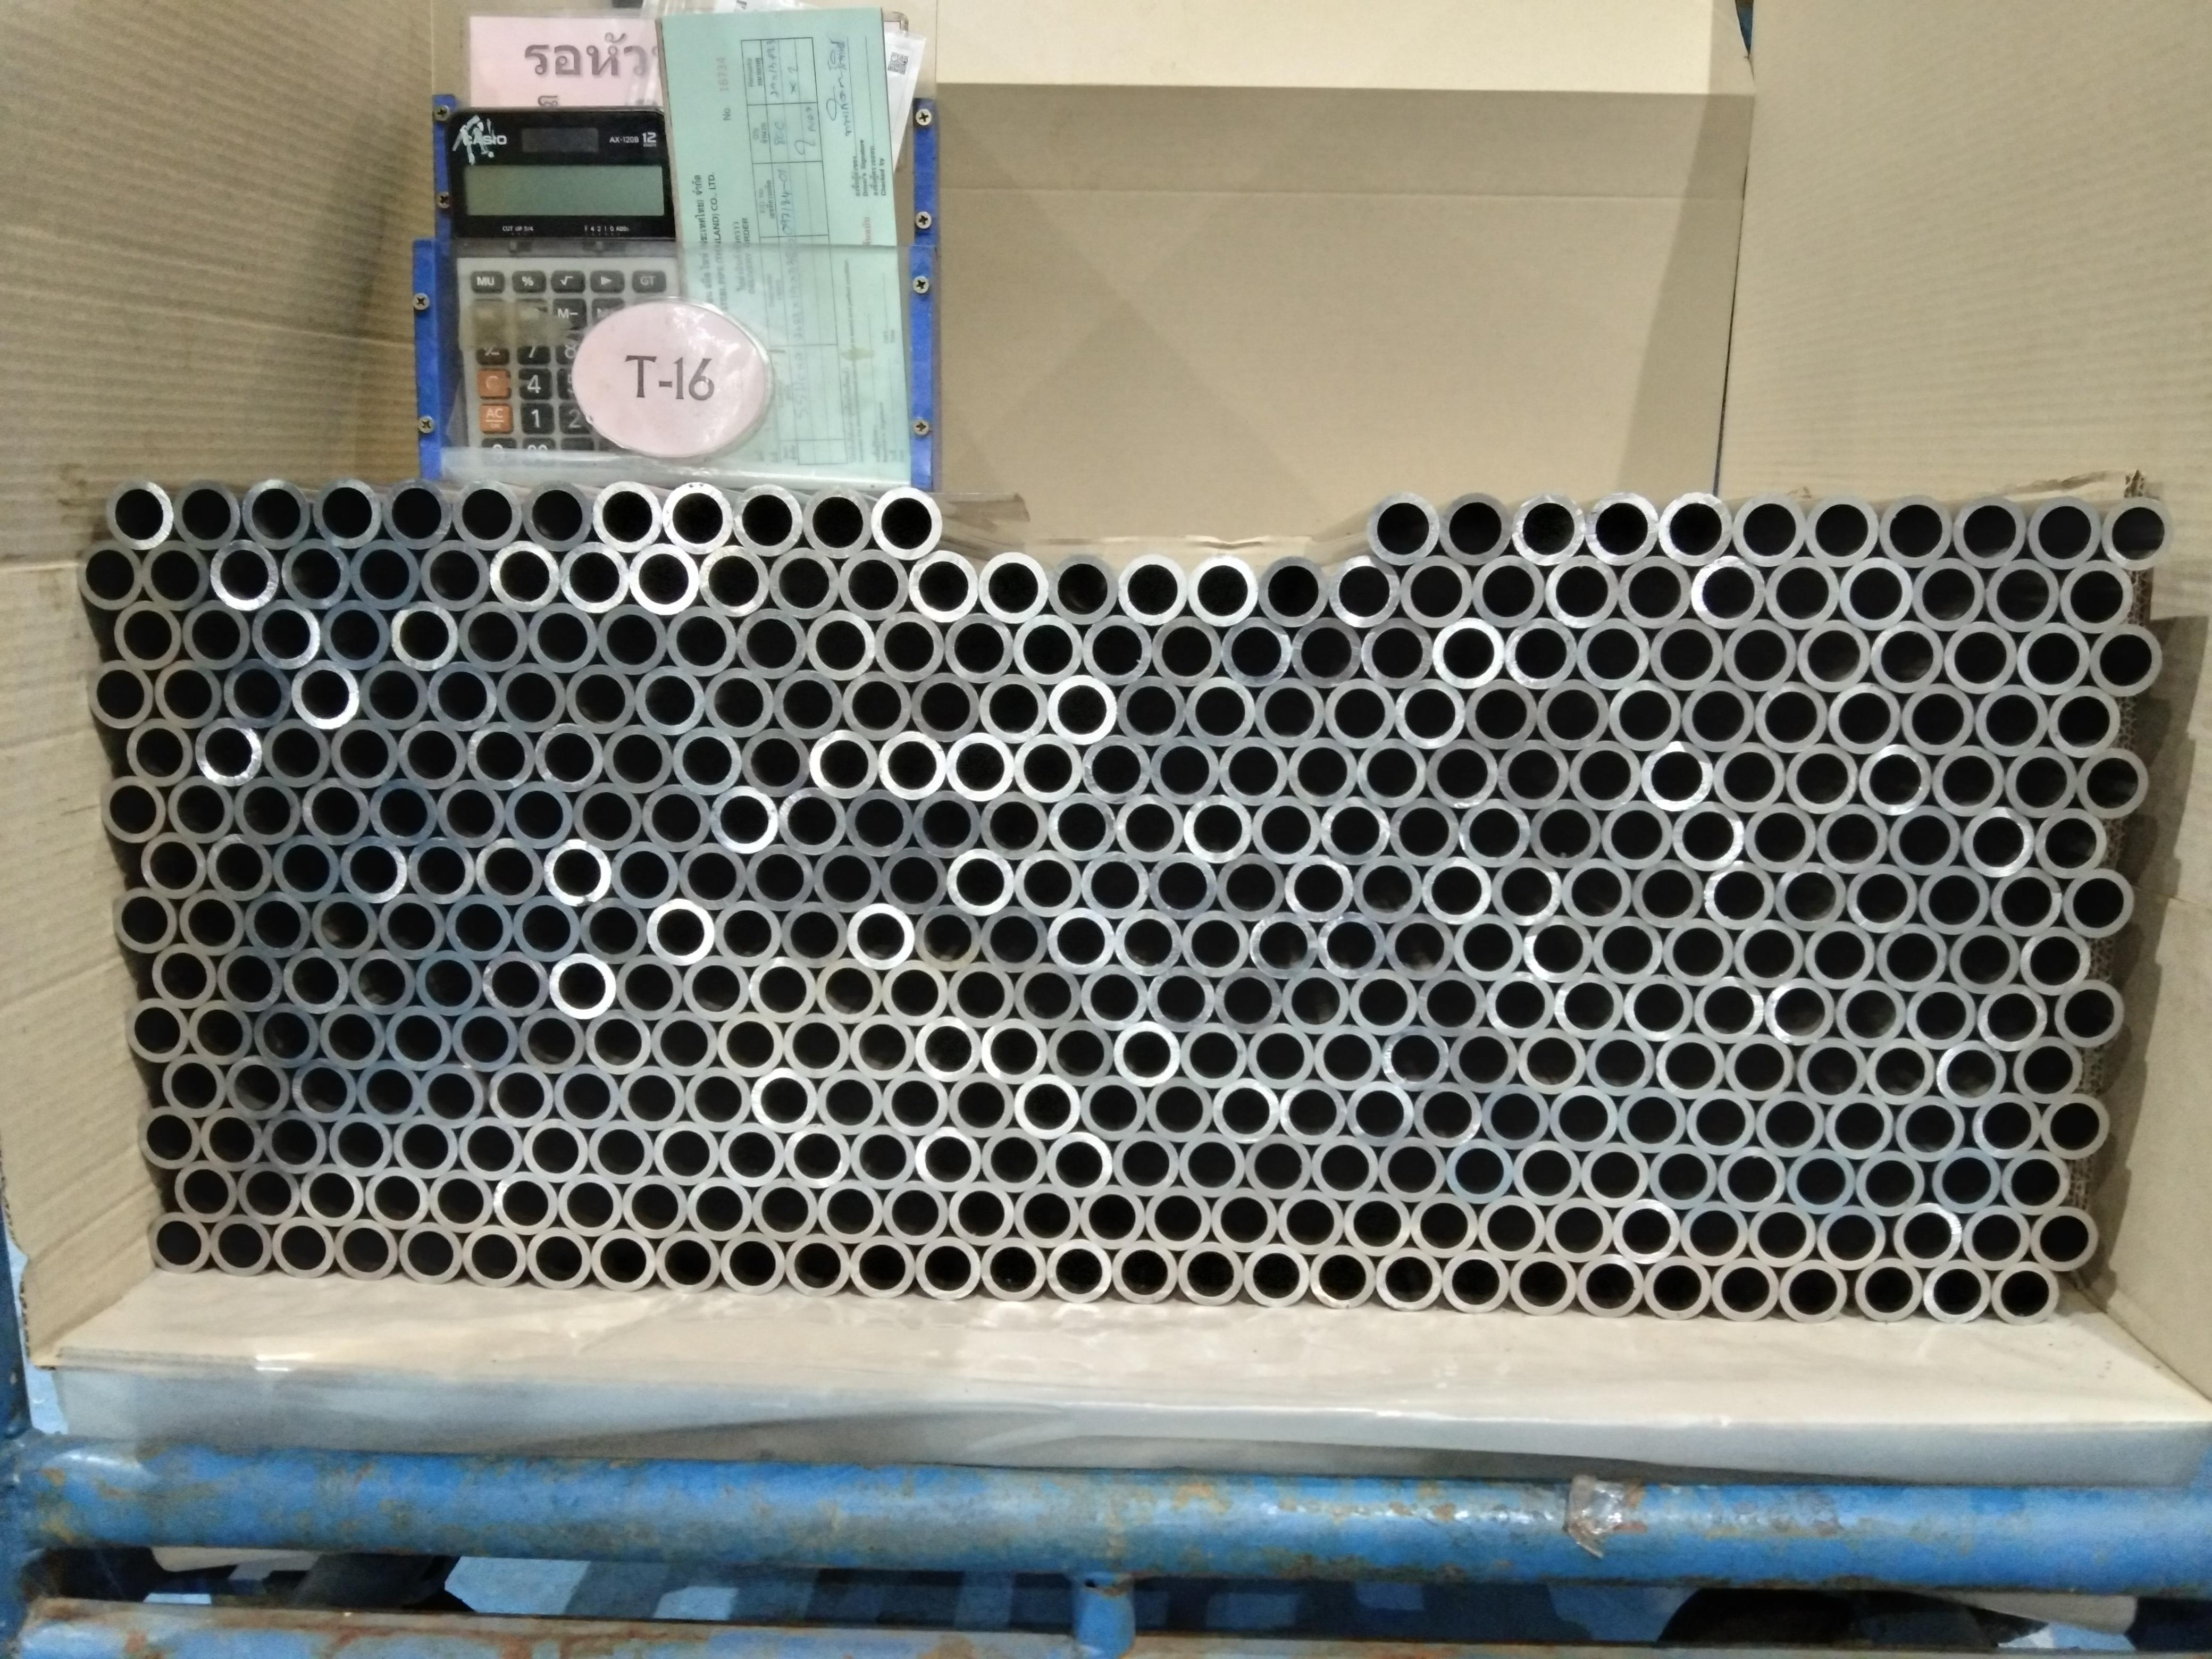pipe: (1838, 553, 1914, 633), (1616, 552, 1692, 631), (1796, 616, 1872, 695), (1764, 552, 1840, 632), (1364, 490, 1441, 568), (1544, 551, 1620, 630), (1471, 551, 1546, 630), (1574, 616, 1652, 692), (1691, 552, 1766, 632), (1985, 556, 2060, 635), (1912, 554, 1986, 634), (1753, 679, 1830, 756), (1722, 616, 1798, 694), (1584, 490, 1661, 567), (1680, 677, 1756, 755), (1870, 617, 1944, 696), (2015, 619, 2090, 697), (1973, 681, 2048, 759), (1930, 742, 2005, 819), (1731, 491, 1806, 568), (1649, 616, 1724, 693), (1900, 680, 1975, 757), (1878, 492, 1953, 569), (1943, 618, 2017, 696), (1711, 740, 1788, 815), (1503, 615, 1578, 691), (1327, 552, 1402, 629), (1255, 551, 1329, 629), (1535, 676, 1610, 752), (1858, 741, 1933, 817), (1431, 615, 1506, 691), (1827, 680, 1901, 757), (1438, 490, 1512, 566), (1399, 552, 1472, 630), (1784, 741, 1859, 816), (1511, 491, 1586, 566), (1289, 614, 1363, 690), (1608, 677, 1682, 753), (1568, 737, 1642, 813), (1657, 491, 1732, 567), (1962, 804, 2037, 878), (1805, 492, 1879, 568), (1887, 803, 1962, 877), (2027, 495, 2101, 571), (2101, 497, 2175, 572), (2058, 559, 2132, 634), (1360, 615, 1434, 691), (2087, 622, 2161, 697), (2049, 684, 2123, 759), (1953, 494, 2026, 570), (661, 480, 734, 556), (767, 543, 839, 621), (558, 538, 630, 616), (1463, 677, 1538, 751), (1670, 799, 1746, 873), (279, 535, 352, 611), (2033, 805, 2106, 881), (1630, 857, 1707, 929), (731, 481, 803, 557), (1186, 551, 1258, 628), (1639, 739, 1713, 813), (1742, 800, 1817, 874), (1989, 864, 2063, 939), (1916, 864, 1991, 936), (1117, 551, 1189, 627), (698, 542, 769, 619), (869, 484, 941, 561), (1425, 736, 1499, 810), (1457, 796, 1531, 870), (1815, 801, 1889, 875), (943, 613, 1017, 687), (1496, 738, 1570, 811), (837, 546, 909, 622), (802, 482, 873, 559), (1528, 797, 1602, 871), (735, 606, 808, 680), (2060, 866, 2134, 939), (2018, 924, 2092, 996), (347, 539, 422, 611), (1046, 672, 1118, 747), (1703, 858, 1775, 933), (1220, 614, 1292, 689), (319, 597, 390, 673), (526, 603, 602, 674), (703, 665, 774, 741), (597, 601, 667, 677), (629, 540, 699, 617), (1393, 676, 1466, 750), (907, 549, 979, 623), (1733, 918, 1807, 990), (1046, 551, 1118, 626), (666, 604, 738, 678), (140, 538, 211, 613), (773, 666, 843, 742), (2076, 744, 2147, 820), (420, 537, 490, 614), (2004, 744, 2076, 818), (1803, 919, 1876, 992), (1080, 613, 1153, 686), (1150, 614, 1222, 688), (1846, 861, 1918, 935), (873, 609, 944, 684), (1184, 673, 1255, 748), (489, 538, 559, 614), (1253, 675, 1325, 749), (1947, 923, 2020, 996), (522, 479, 594, 552), (977, 550, 1048, 624), (457, 599, 529, 674), (1012, 611, 1083, 686), (805, 607, 875, 682), (1286, 735, 1359, 808), (909, 670, 981, 744), (1324, 676, 1395, 750), (1356, 736, 1427, 810), (1283, 854, 1357, 925), (1451, 912, 1525, 983), (1661, 916, 1735, 987), (978, 671, 1048, 745), (1875, 924, 1951, 994), (1600, 799, 1672, 871), (1115, 674, 1187, 747), (358, 658, 429, 732), (565, 661, 635, 735), (250, 597, 321, 671), (592, 479, 662, 554), (299, 775, 371, 847), (571, 780, 643, 852), (640, 782, 712, 854), (111, 598, 182, 671), (389, 599, 459, 672), (495, 660, 566, 734), (465, 719, 536, 792), (171, 478, 242, 551), (181, 597, 252, 671), (1774, 861, 1846, 932), (451, 480, 523, 552), (634, 664, 705, 736), (261, 716, 331, 789), (740, 726, 810, 799), (1080, 733, 1151, 806), (1218, 735, 1288, 808), (153, 657, 223, 731), (842, 669, 912, 742), (397, 718, 467, 791), (1388, 796, 1460, 868), (1591, 914, 1663, 985), (1490, 856, 1562, 926), (222, 657, 292, 731), (1149, 733, 1219, 807), (426, 660, 497, 732), (1561, 857, 1632, 928), (311, 478, 383, 549), (672, 724, 742, 797), (1012, 732, 1083, 804), (1320, 794, 1390, 867), (1415, 968, 1488, 1038), (1485, 970, 1557, 1040), (1622, 973, 1695, 1043), (1692, 975, 1765, 1044), (1763, 976, 1836, 1046), (2051, 979, 2124, 1049), (1833, 981, 1906, 1050), (1903, 982, 1976, 1052), (1976, 983, 2049, 1052), (1447, 1025, 1520, 1095), (1514, 1026, 1587, 1096), (1585, 1029, 1657, 1099), (1655, 1030, 1728, 1100), (1721, 1032, 1794, 1102), (2010, 1033, 2083, 1102), (1795, 1036, 1867, 1105), (1863, 1036, 1936, 1105), (1934, 1038, 2007, 1108), (1211, 1076, 1284, 1145), (1278, 1078, 1351, 1147), (1344, 1079, 1417, 1149), (1412, 1080, 1485, 1150), (1478, 1083, 1551, 1153), (1548, 1084, 1621, 1154), (1615, 1085, 1688, 1155), (1685, 1089, 1757, 1159), (2038, 1090, 2111, 1160), (1971, 1091, 2043, 1160), (1755, 1091, 1828, 1161), (1823, 1091, 1896, 1161), (1896, 1095, 1968, 1164), (1109, 1127, 1182, 1197), (1176, 1129, 1249, 1199), (1241, 1132, 1314, 1202), (1310, 1134, 1382, 1204), (1377, 1135, 1449, 1205), (1443, 1136, 1515, 1206), (1510, 1138, 1583, 1208), (1580, 1141, 1653, 1210), (1645, 1144, 1717, 1214), (1718, 1144, 1791, 1214), (1931, 1145, 2004, 1214), (1999, 1146, 2072, 1216), (1784, 1146, 1857, 1216), (1854, 1150, 1927, 1220), (944, 731, 1015, 802), (435, 778, 506, 849), (242, 479, 313, 550), (232, 774, 302, 846), (406, 834, 476, 906), (1112, 908, 1184, 977), (1421, 854, 1492, 925), (808, 728, 878, 800), (875, 728, 945, 800), (271, 832, 341, 903), (609, 840, 681, 910), (1215, 852, 1285, 923), (192, 716, 262, 788), (911, 788, 981, 860), (382, 478, 451, 550), (86, 658, 155, 731), (534, 721, 603, 793), (105, 478, 173, 551), (125, 717, 195, 788), (1046, 791, 1116, 862), (445, 892, 513, 964), (978, 790, 1049, 860), (1554, 971, 1624, 1041), (210, 539, 280, 609), (604, 723, 673, 794), (745, 842, 815, 913), (812, 843, 882, 914), (979, 904, 1049, 975), (1248, 910, 1319, 980), (1385, 911, 1454, 982), (1523, 913, 1593, 984), (505, 778, 573, 850), (139, 830, 208, 900), (1352, 854, 1422, 924), (312, 890, 381, 960), (1380, 1023, 1449, 1093), (369, 776, 438, 847), (542, 837, 611, 908), (678, 841, 747, 911), (1148, 850, 1217, 921), (474, 836, 543, 907), (331, 718, 399, 790), (339, 833, 407, 905), (291, 658, 358, 731), (378, 890, 445, 963), (1146, 965, 1216, 1034), (1183, 793, 1252, 864), (912, 903, 982, 973), (777, 786, 846, 857), (1114, 793, 1185, 862), (647, 894, 715, 965), (579, 895, 648, 966), (1317, 910, 1386, 981), (144, 1208, 215, 1277), (206, 1212, 276, 1280), (166, 774, 234, 845), (512, 893, 580, 964), (1251, 797, 1323, 865), (1080, 850, 1149, 920), (1213, 966, 1283, 1035), (816, 1178, 886, 1246), (947, 1178, 1017, 1247), (881, 1179, 951, 1248), (271, 1214, 341, 1283), (330, 1215, 400, 1284), (396, 1221, 466, 1289), (459, 1222, 530, 1291), (524, 1225, 594, 1294), (589, 1226, 659, 1295), (652, 1230, 722, 1298), (717, 1230, 787, 1298), (848, 1231, 918, 1300), (784, 1232, 854, 1301), (914, 1234, 984, 1302), (978, 1237, 1049, 1305), (1044, 1238, 1115, 1306), (1109, 1239, 1179, 1308), (1177, 1240, 1247, 1309), (1242, 1242, 1312, 1311), (1305, 1242, 1375, 1311), (1373, 1245, 1444, 1314), (1439, 1248, 1510, 1317), (1509, 1249, 1579, 1318), (1575, 1250, 1645, 1319), (710, 784, 778, 855), (1313, 1022, 1381, 1093), (815, 956, 882, 1027), (1348, 967, 1418, 1036), (780, 900, 849, 969), (517, 1006, 585, 1076), (914, 1014, 982, 1084), (981, 1016, 1049, 1086), (1046, 1019, 1115, 1088), (1111, 1019, 1179, 1088), (815, 1068, 883, 1137), (652, 1118, 720, 1188), (77, 540, 145, 610), (845, 787, 913, 858), (1014, 848, 1082, 918), (615, 952, 683, 1023), (1079, 963, 1148, 1032), (946, 847, 1014, 917), (1046, 906, 1115, 975), (1181, 909, 1249, 978), (1281, 966, 1350, 1035), (879, 845, 947, 916), (346, 948, 416, 1016), (206, 831, 273, 902), (224, 1053, 295, 1120), (947, 960, 1015, 1029), (450, 1004, 518, 1074), (847, 901, 914, 971), (746, 957, 818, 1022), (317, 1002, 386, 1070), (384, 1003, 452, 1072), (552, 1062, 620, 1131), (617, 1064, 686, 1132), (848, 1123, 916, 1192), (714, 899, 782, 968), (149, 942, 216, 1011), (482, 949, 549, 1018), (881, 958, 949, 1027), (684, 1064, 752, 1133), (1013, 1181, 1080, 1250), (947, 1071, 1015, 1139), (783, 1121, 851, 1189), (1014, 961, 1081, 1030), (252, 1000, 319, 1069), (782, 1011, 849, 1080), (160, 1051, 227, 1121), (1080, 1182, 1146, 1252), (1145, 1183, 1211, 1253), (1214, 1185, 1280, 1254), (1275, 1187, 1342, 1257), (1344, 1190, 1411, 1260), (1410, 1192, 1477, 1261), (1479, 1193, 1546, 1263), (1544, 1195, 1611, 1264), (1612, 1197, 1678, 1267), (1682, 1199, 1748, 1268), (1750, 1201, 1816, 1271), (177, 888, 245, 956), (650, 1009, 717, 1077), (1179, 1021, 1247, 1089), (135, 1105, 203, 1173), (621, 1172, 688, 1241), (290, 1055, 357, 1124), (420, 1060, 487, 1128), (914, 1125, 982, 1192), (244, 890, 311, 959), (485, 1062, 555, 1128), (415, 949, 482, 1017), (848, 1013, 916, 1081), (549, 952, 616, 1020), (1079, 1074, 1146, 1142), (981, 1126, 1048, 1194), (1247, 1023, 1316, 1090), (882, 1069, 951, 1135), (588, 1117, 654, 1186), (685, 1176, 755, 1241), (113, 885, 178, 956), (215, 945, 282, 1012), (1046, 1129, 1113, 1196), (1816, 1203, 1884, 1270), (1892, 1203, 1959, 1270), (1963, 1203, 2031, 1270), (2029, 1206, 2096, 1273), (1642, 1254, 1710, 1321), (1713, 1256, 1781, 1323), (1854, 1258, 1922, 1325), (1991, 1258, 2059, 1325), (1779, 1259, 1847, 1326), (1924, 1260, 1992, 1327), (101, 776, 167, 844), (683, 957, 751, 1023), (751, 1066, 817, 1134), (719, 1120, 784, 1189), (491, 1169, 558, 1236), (1146, 1076, 1213, 1142), (281, 946, 347, 1015), (187, 999, 254, 1066), (521, 1118, 588, 1185), (356, 1058, 422, 1125), (751, 1176, 817, 1244), (717, 1011, 783, 1078), (585, 1009, 650, 1077), (363, 1164, 429, 1231), (1015, 1073, 1079, 1141), (260, 1109, 328, 1174), (173, 1158, 238, 1225), (459, 1117, 524, 1183), (299, 1162, 364, 1228), (428, 1168, 493, 1234), (326, 1111, 391, 1177), (236, 1161, 301, 1226), (199, 1107, 263, 1172), (559, 1173, 624, 1237), (126, 999, 189, 1065), (391, 1115, 458, 1177)
